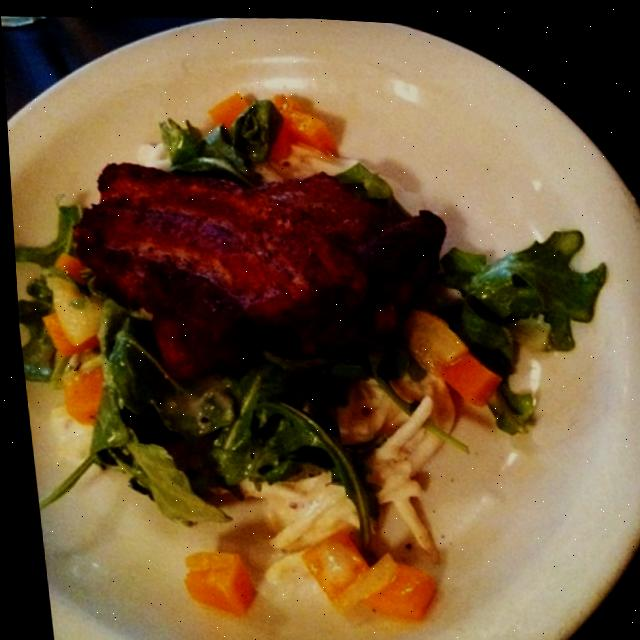牛肉菜式: (0, 1, 640, 640)
